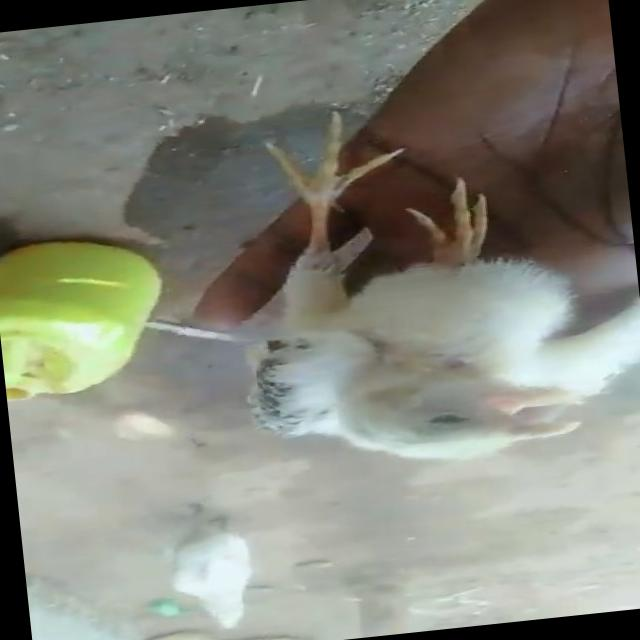newcastle: (190, 90, 640, 498)
